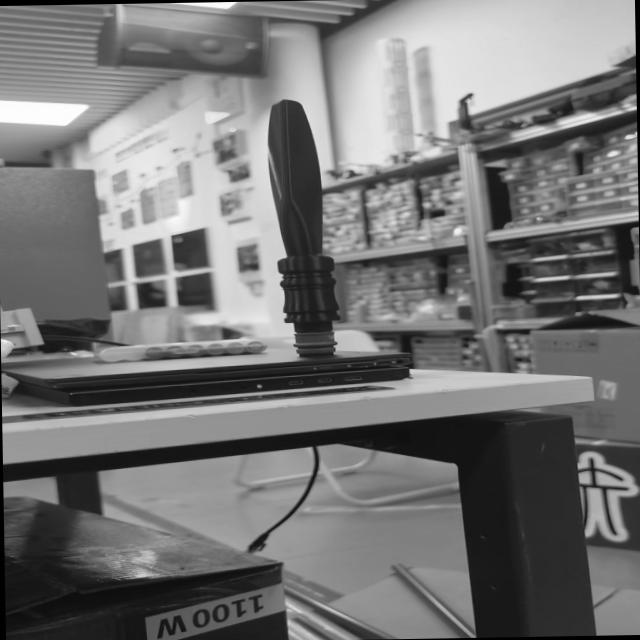base: (282, 327, 344, 359)
